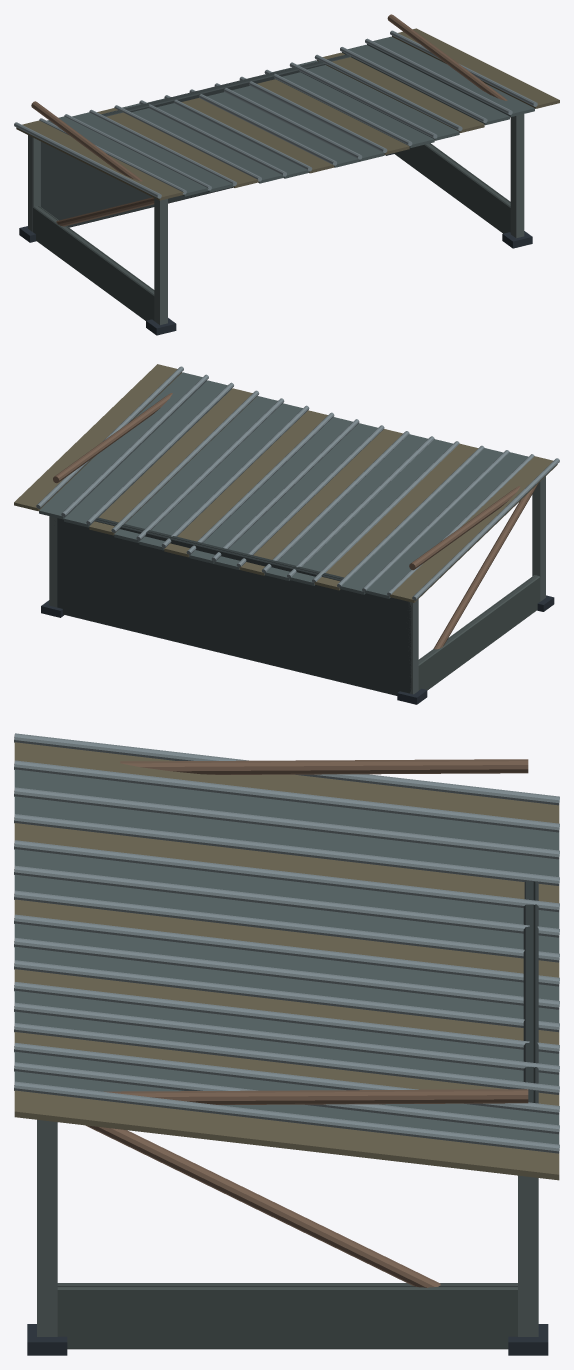
File: HD-04_bent_cargo_cage.glb
3 renders of one model, top to bottom at view 1: azimuth 30°, elevation 25°; view 2: azimuth 150°, elevation 25°; view 3: azimuth 270°, elevation 25°, orthographic. The views are drawn at different scales.
Parts seen in each view (by area): view 1: HD-04_bent_cargo_cage; view 2: HD-04_bent_cargo_cage; view 3: HD-04_bent_cargo_cage.
Part boxes in pixels (box(x1,y1,x2,y2)): HD-04_bent_cargo_cage: box(14, 14, 559, 335); HD-04_bent_cargo_cage: box(14, 364, 559, 704); HD-04_bent_cargo_cage: box(14, 733, 559, 1355).
Size of the model in its own units: 5.94 by 2.03 by 3.68.
